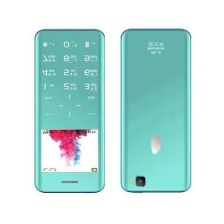phone: (28, 25, 108, 197), (118, 25, 194, 196)
